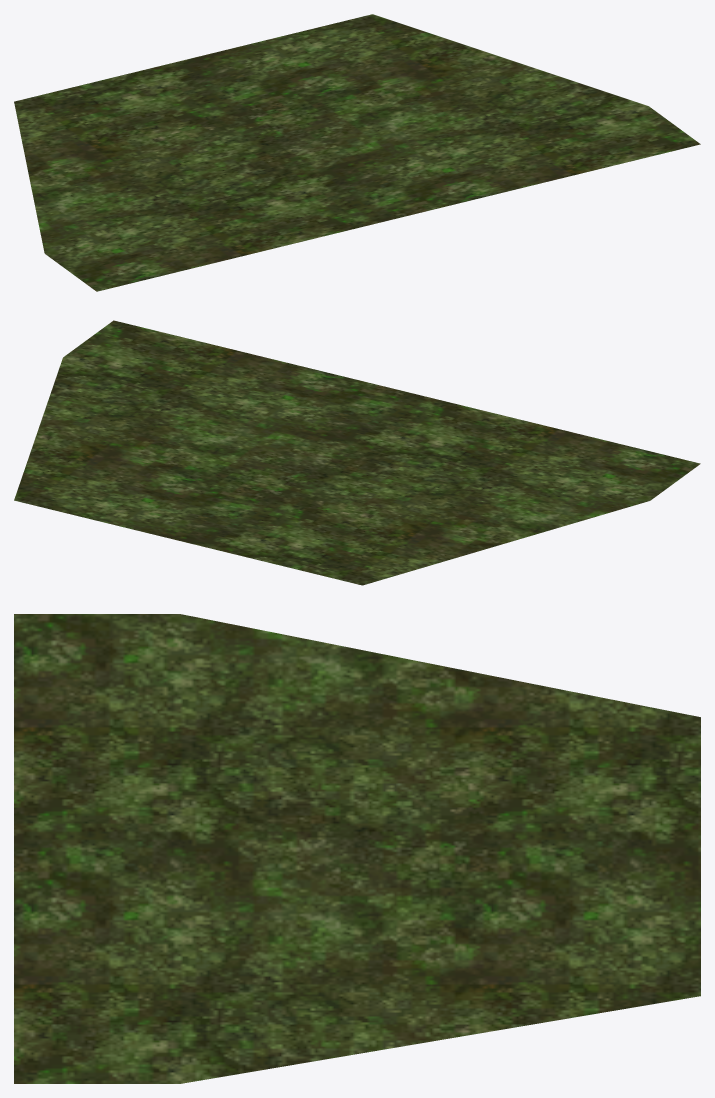
File: OVERHILL_A_01_LINE197.fbx
3 renders of one model, top to bottom at view 1: azimuth 30°, elevation 25°; view 2: azimuth 150°, elevation 25°; view 3: azimuth 270°, elevation 25°, orthographic. The views are drawn at different scales.
Parts seen in each view (by area): view 1: OVERHILL_A_01_LINE197; view 2: OVERHILL_A_01_LINE197; view 3: OVERHILL_A_01_LINE197.
Part boxes in pixels (x1,y1,x2,y2): OVERHILL_A_01_LINE197: [14, 14, 700, 291]; OVERHILL_A_01_LINE197: [14, 320, 700, 585]; OVERHILL_A_01_LINE197: [14, 614, 700, 1083].
Bounding box in the file's own units: 53508 × 0.0298 × 33055.
Materials: 1 (1 with a texture image).
